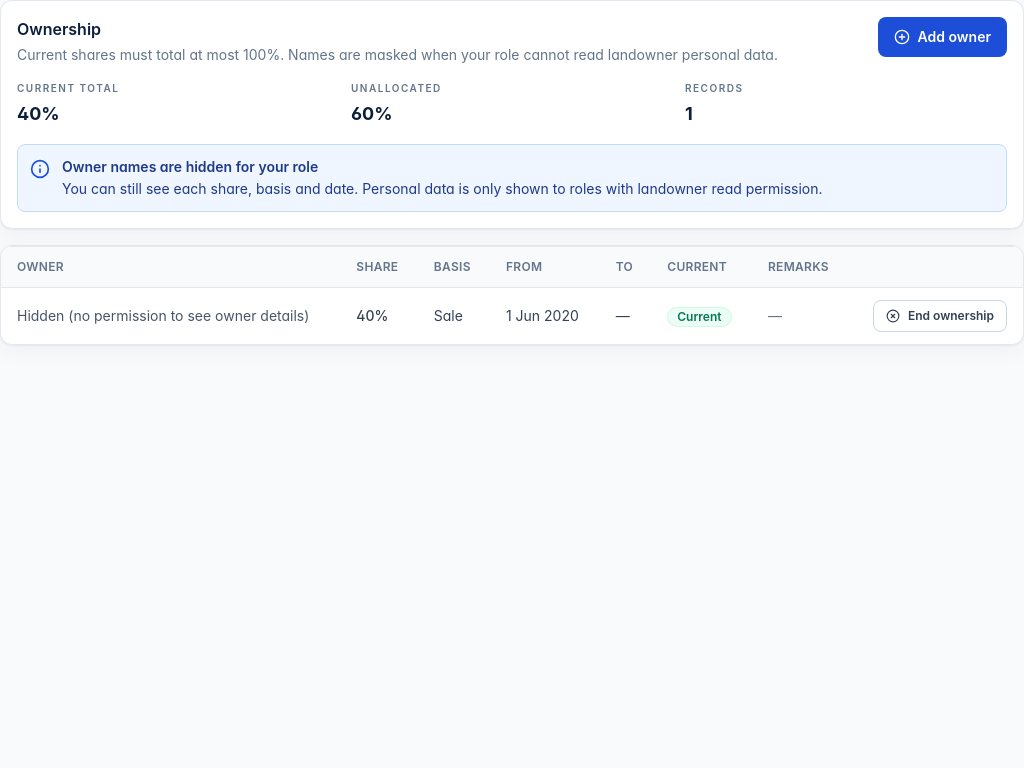
Test case: OwnersTab › rejects a share that exceeds the unallocated percentage
Click the button "Add owner": (942, 37) [878,17,1007,57]
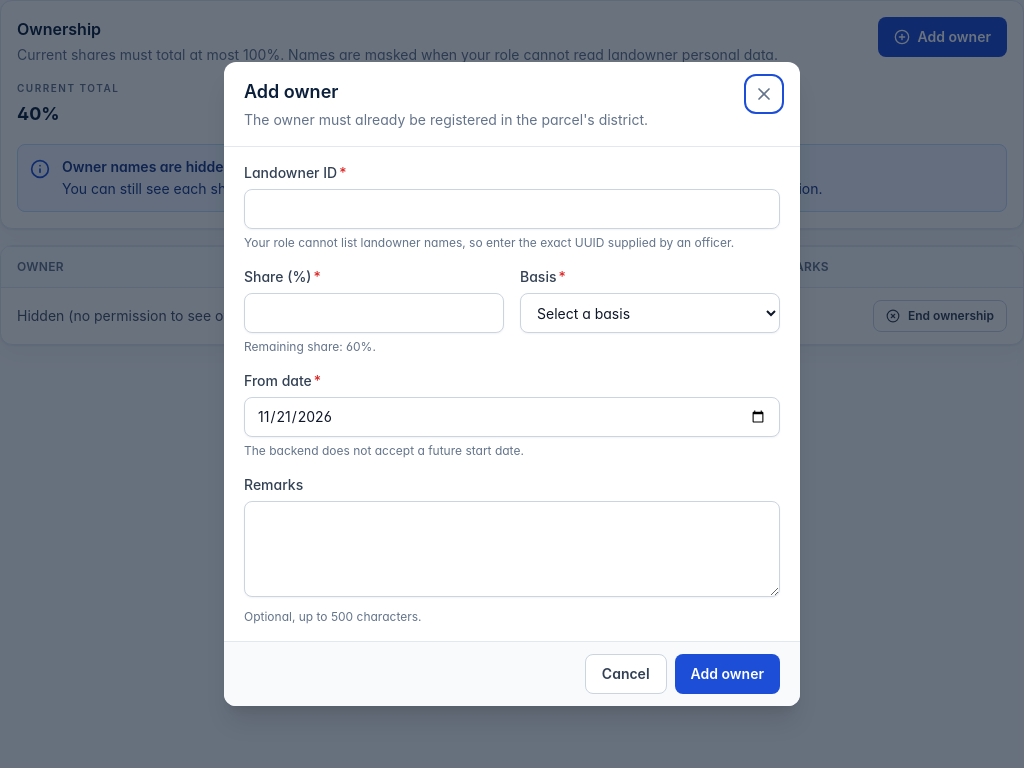
In the field labelled "Landowner ID*": (512, 209) [244,189,780,229], type "eeeeeeee-eeee-eeee-eeee-eeeeeeeeeeee"
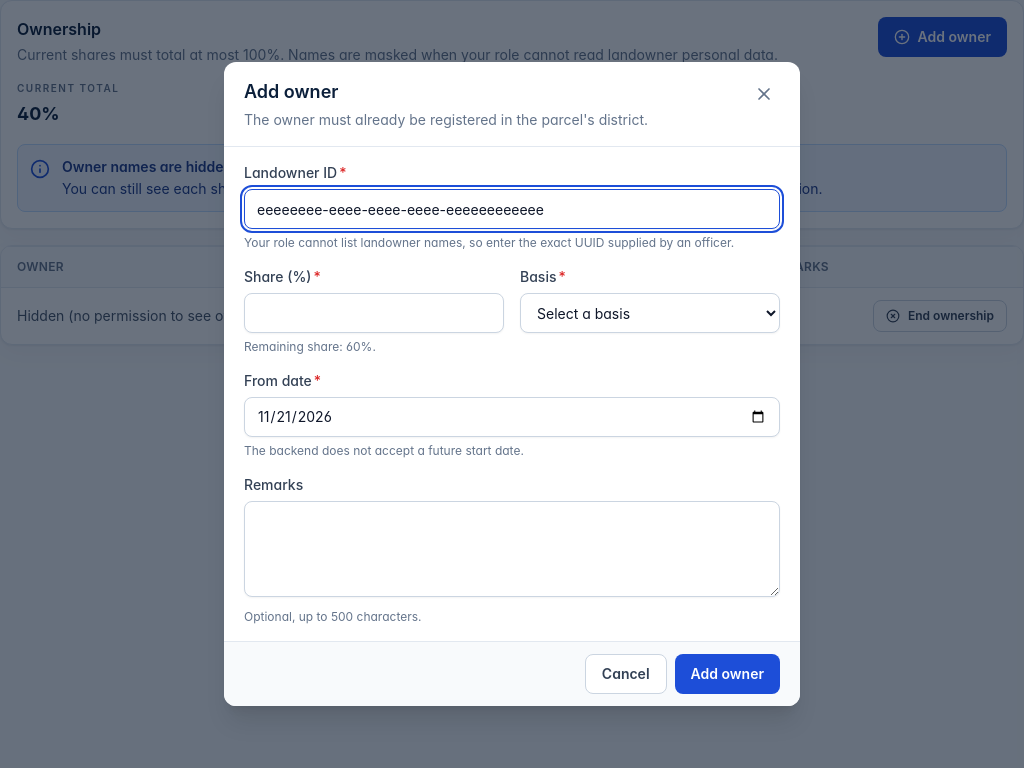
In the field labelled "Share (%)*": (374, 313) [244,293,504,333], type "70"
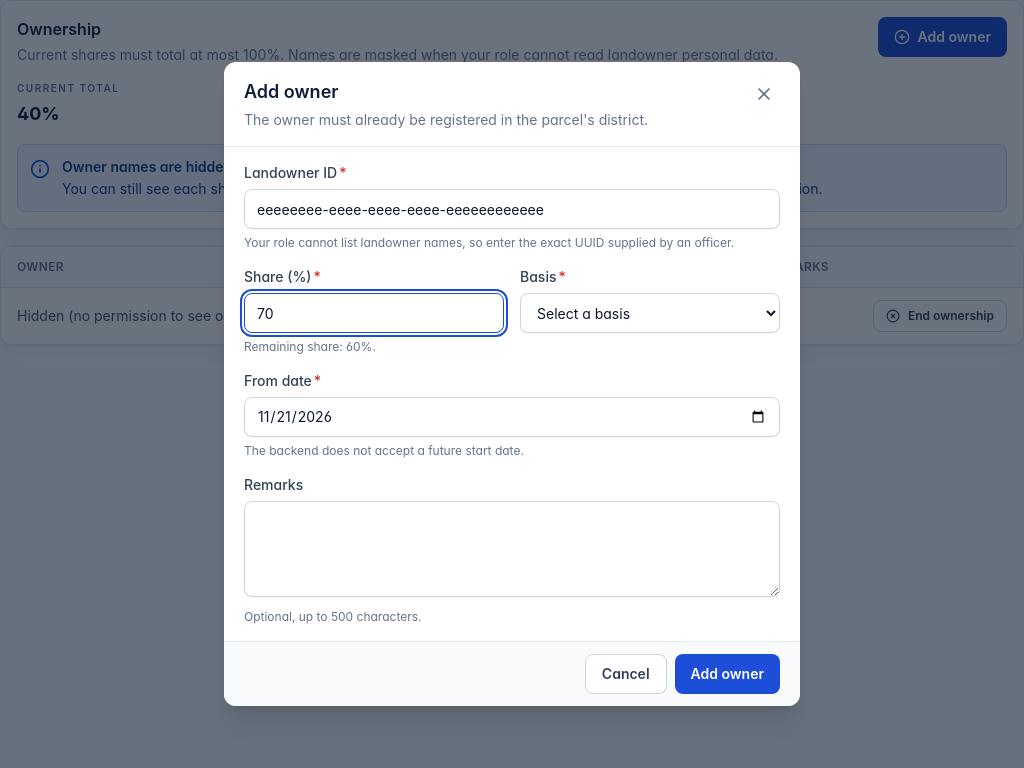
Select "Sale" in the dropdown labelled "Basis*": (650, 313) [520,293,780,333]
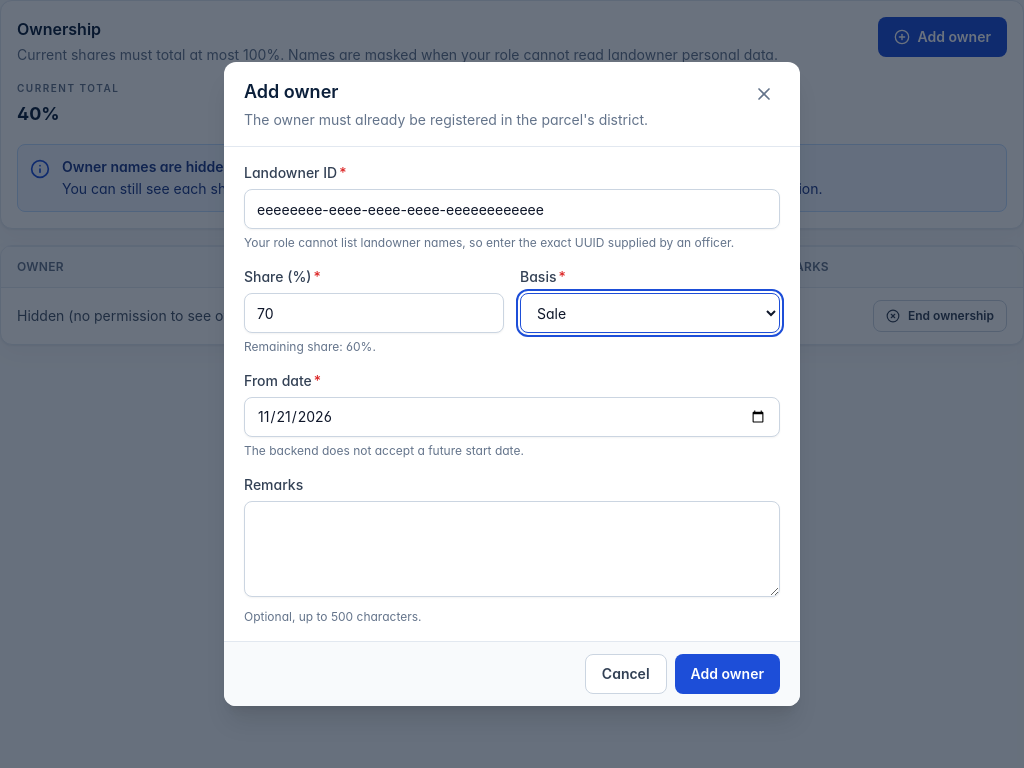
Click the button "Add owner": (727, 674) [674,654,780,694]
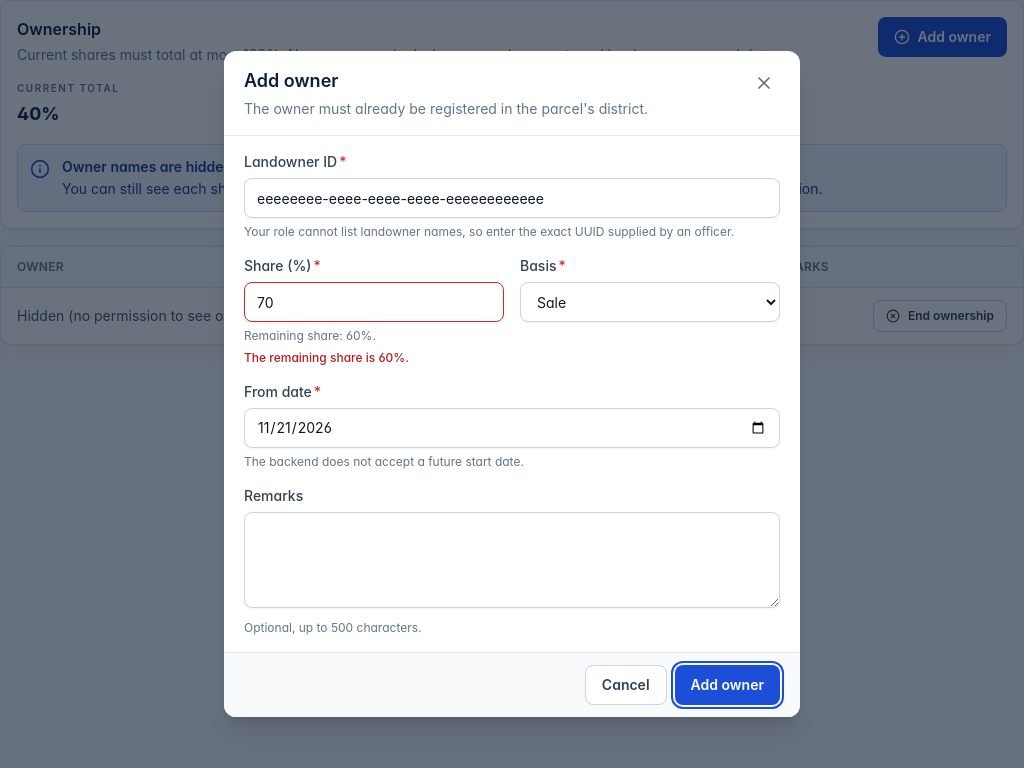
Expected: the text "The remaining share is 60%." is shown, [244,350,409,365]
